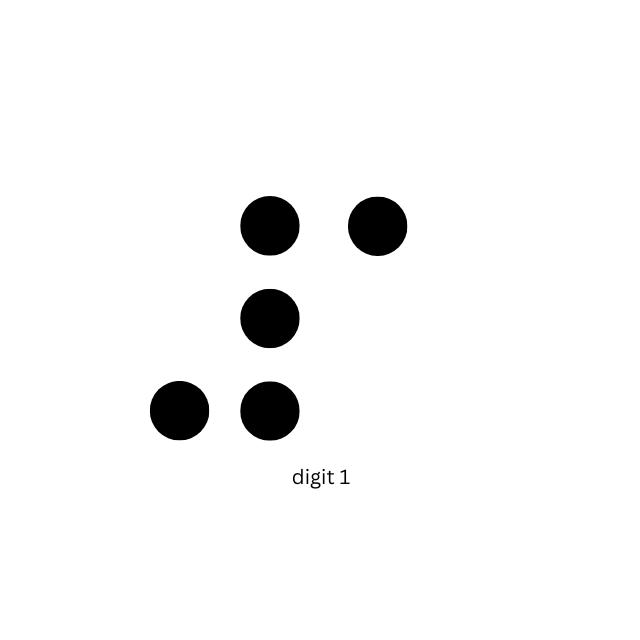digit_1: (347, 194, 492, 441)
number_sign: (150, 194, 302, 444)
